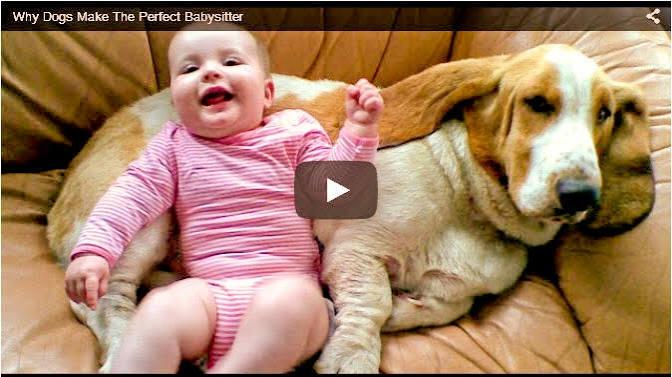adult_dog: (47, 41, 656, 377)
non-dog: (57, 21, 383, 370)
